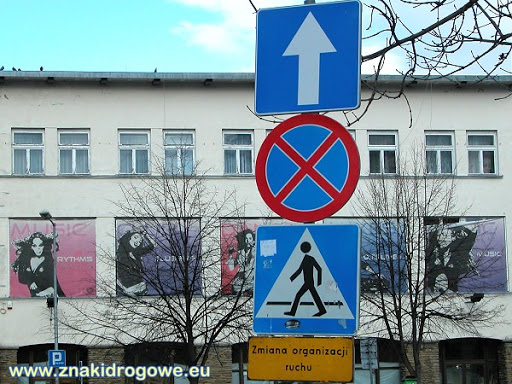no_stopping_sign: (254, 113, 361, 224)
